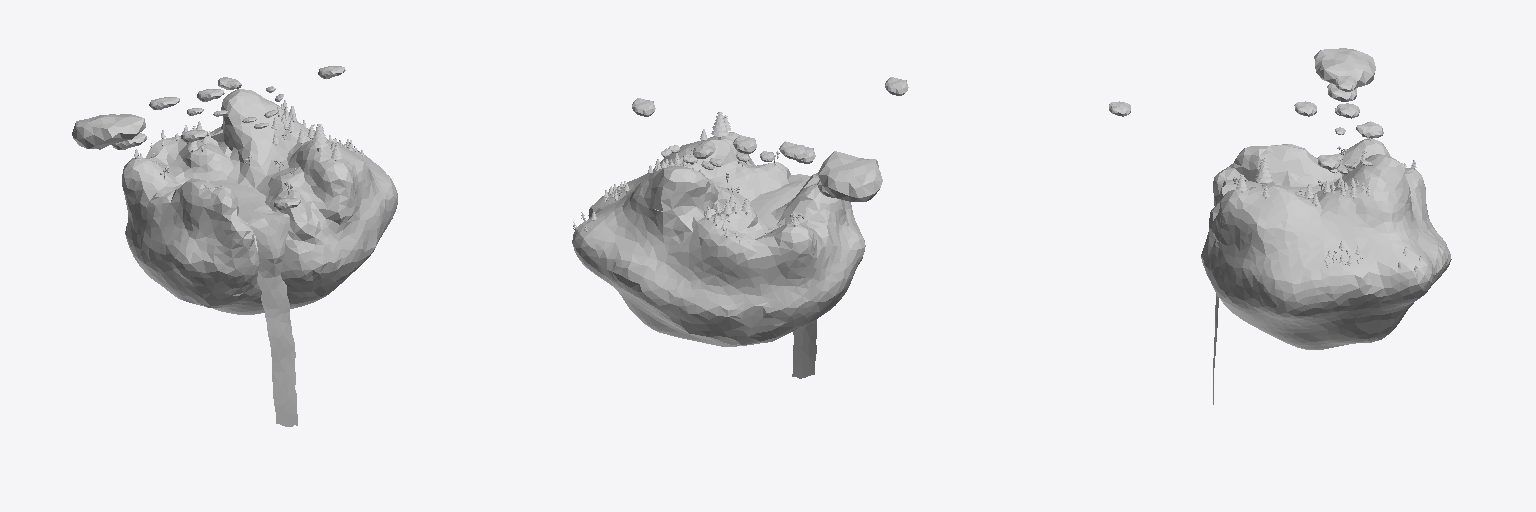
The model's file is main_island_light.obj.
3 views of the same model, side by side, from view 1: azimuth 30°, elevation 25°; view 2: azimuth 150°, elevation 25°; view 3: azimuth 270°, elevation 25° (orthographic).
Parts seen in each view (by area): view 1: MainIsland.001; view 2: MainIsland.001; view 3: MainIsland.001.
Boxes of the visible parts, x1=… form: MainIsland.001: x1=72, y1=66, x2=397, y2=426; MainIsland.001: x1=572, y1=77, x2=908, y2=378; MainIsland.001: x1=1109, y1=48, x2=1451, y2=404.
Size of the model in its own units: 0.6246 by 0.6058 by 0.6379.